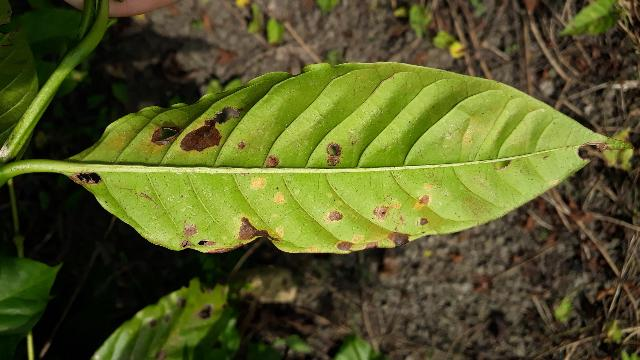rust_level_1: (7, 107, 579, 298)
